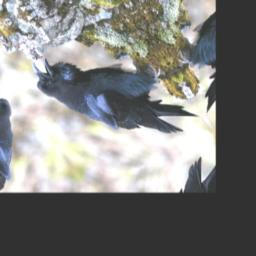Crow: (23, 16, 204, 173)
